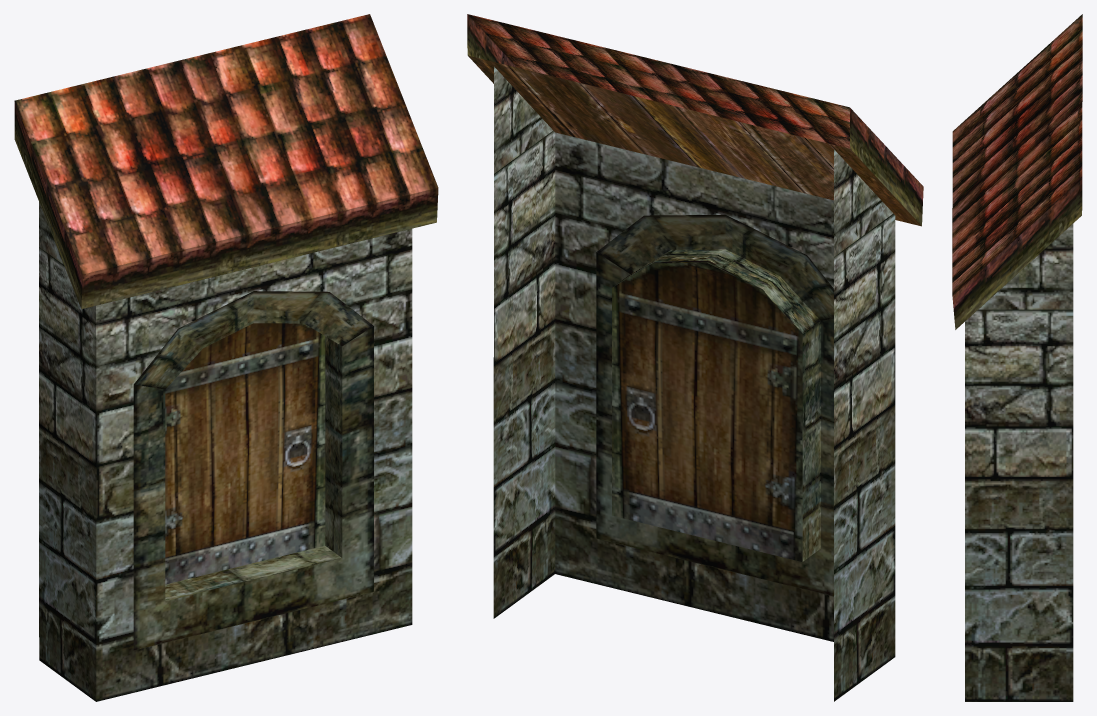
3 views of the same model, side by side, from view 1: azimuth 30°, elevation 25°; view 2: azimuth 150°, elevation 25°; view 3: azimuth 270°, elevation 25° (orthographic). The views are drawn at different scales.
Parts seen in each view (by area): view 1: cc12-col; view 2: cc12-col; view 3: cc12-col.
Boxes of the visible parts, x1,y1,x2,y2 form: cc12-col: (14, 14, 438, 701); cc12-col: (467, 14, 923, 701); cc12-col: (952, 14, 1082, 701).
Size of the model in its own units: 3.6 by 5.43 by 1.2.
5 materials, 5 textured.
